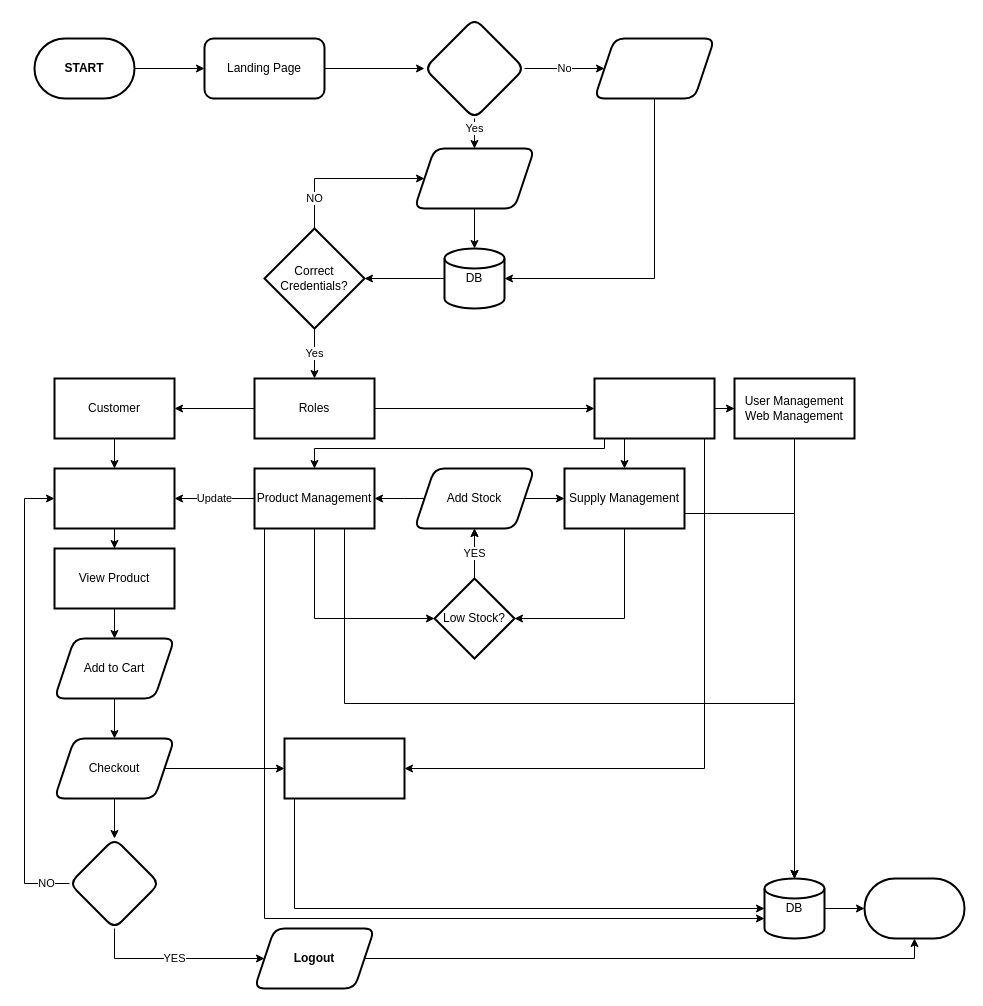
Image size: 983x1006. Some labels were removed from this diagram. The shapes that lost their labels are listed below. From the top down, each one's centre as x and y in pixels, then its label:
At (474,68): "Registered?".
At (654,68): "Register".
At (474,178): "Login".
At (654,408): "Administrator / Staff".
At (114,498): "Visit Shop".
At (344,768): "Order Management".
At (114,883): "Finished Shopping?".
At (914,908): "END".
